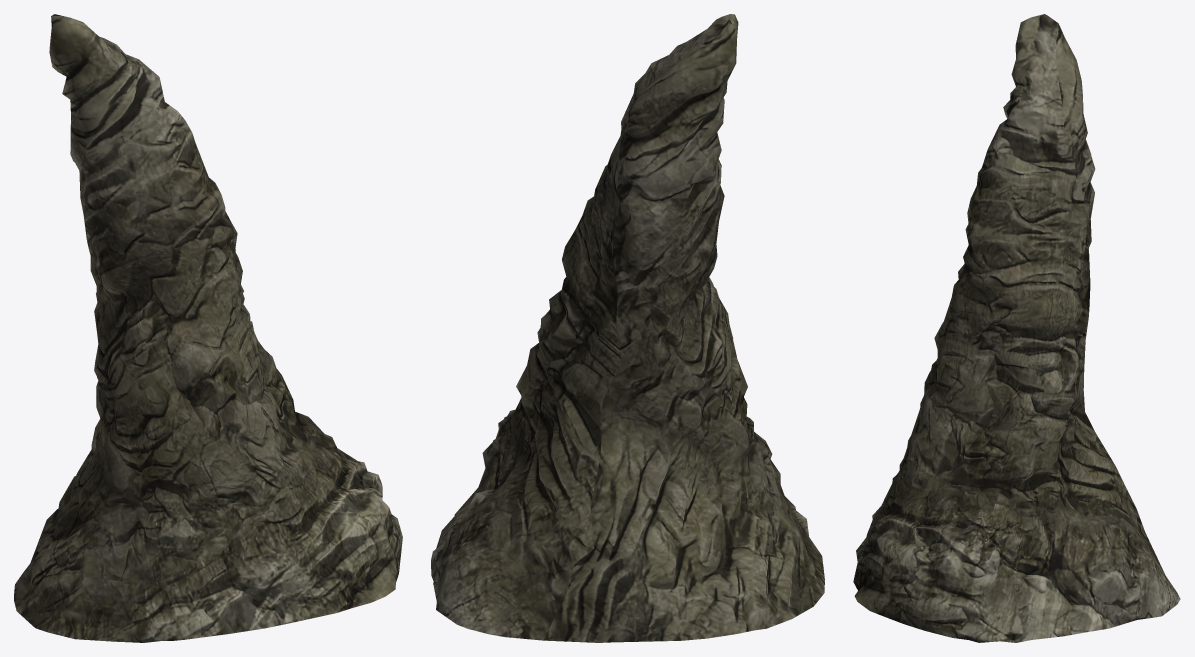
File: MEP_Cliff_17.fbx
The picture shows the model from 3 angles, left to right: view 1: azimuth 30°, elevation 25°; view 2: azimuth 150°, elevation 25°; view 3: azimuth 270°, elevation 25°; orthographic projection. The views are drawn at different scales.
Parts seen in each view (by area): view 1: MEP_Desert_Cliff_17; view 2: MEP_Desert_Cliff_17; view 3: MEP_Desert_Cliff_17.
Boxes of the visible parts, x1,y1,x2,y2 form: MEP_Desert_Cliff_17: (14, 14, 402, 642); MEP_Desert_Cliff_17: (431, 14, 824, 642); MEP_Desert_Cliff_17: (853, 14, 1180, 642).
Size of what is drawn, in the model's own units: 1284 by 2074 by 1202.
Materials: 1 (1 with a texture image).
